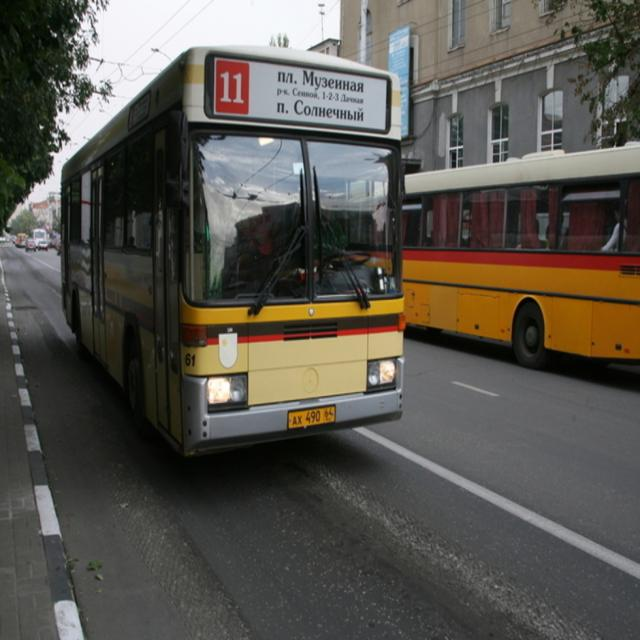number-of-bus: (218, 66, 248, 108)
